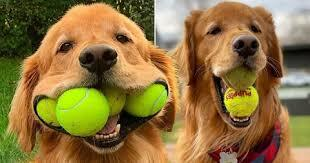Ball: (57, 87, 108, 137), (224, 86, 258, 119)
